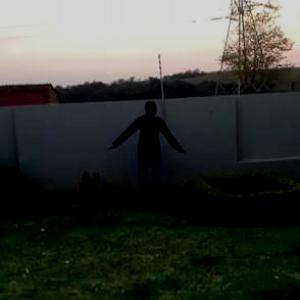land: (108, 99, 188, 210)
